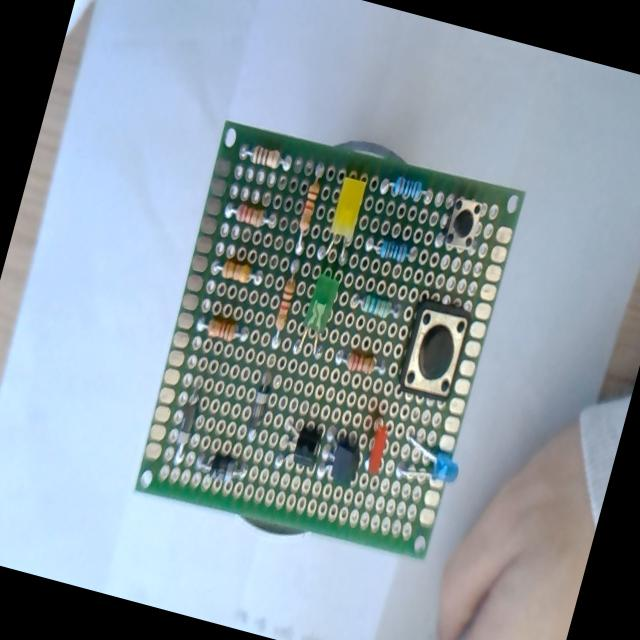diode: (236, 348, 296, 452), (190, 439, 259, 494), (168, 386, 202, 466)
led: (284, 270, 348, 375), (390, 430, 468, 498), (316, 173, 365, 261), (355, 415, 399, 486)
resistor: (268, 181, 324, 345), (291, 179, 322, 255), (379, 172, 433, 210), (197, 312, 249, 346), (333, 346, 386, 378), (240, 141, 293, 173), (211, 256, 262, 288), (365, 234, 413, 266), (224, 200, 274, 230), (352, 291, 399, 321)
switch: (396, 298, 472, 403), (438, 184, 491, 259)
transistor: (309, 421, 372, 497), (265, 412, 324, 489)
